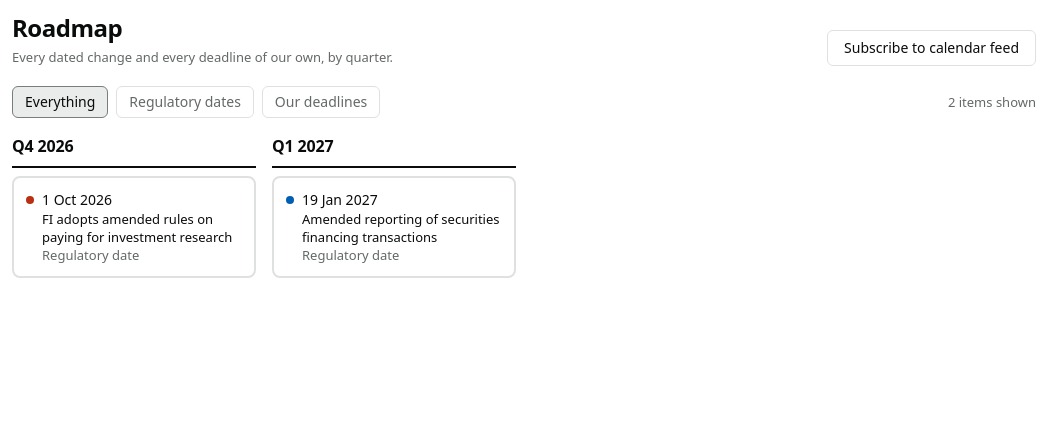
Test case: RoadmapScreen › a date stated to the day keeps its day and the days left to it
The width and height of the screenshot is (1048, 445).
Click the button "1 Oct 2026".
click(134, 227)  # box [12,176,256,278]
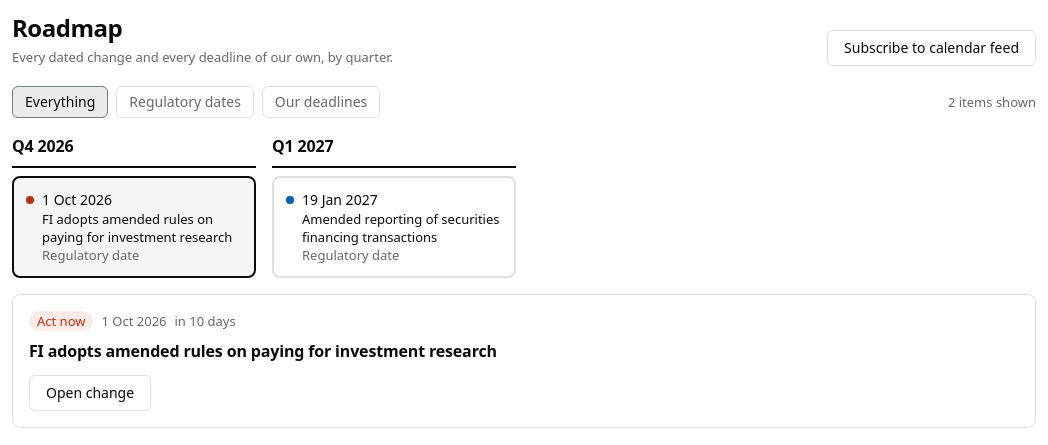
expect the text "in 10 days" is shown: met, box [174,312,236,330]
